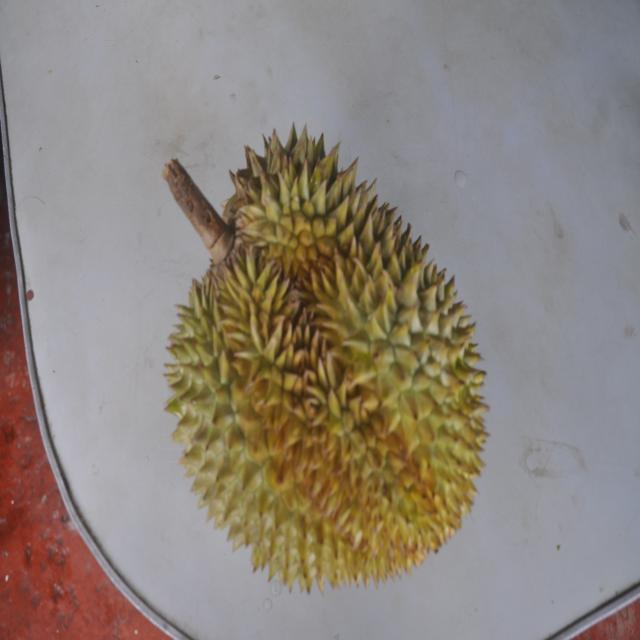mature: (159, 120, 482, 592)
